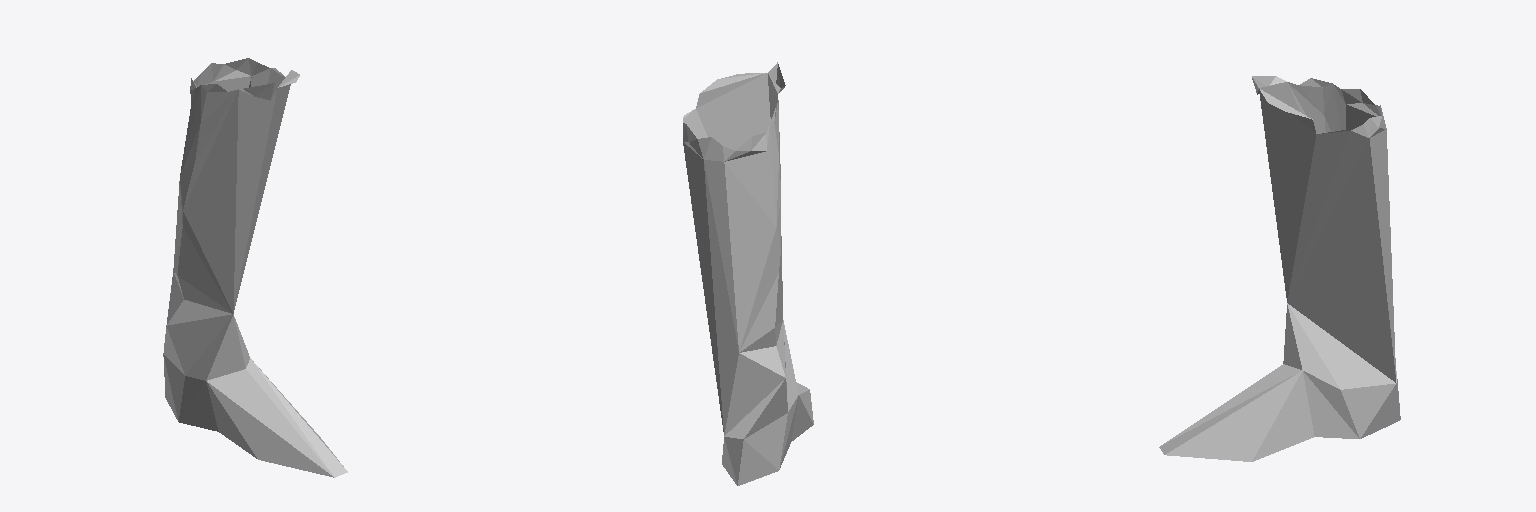
Rendered from pierna1.obj.
The picture shows the model from 3 angles: view 1: azimuth 30°, elevation 25°; view 2: azimuth 150°, elevation 25°; view 3: azimuth 270°, elevation 25°; orthographic projection.
Visible parts, largest first — view 1: polySurface118 uploads_files_[number redacted]_Humano_01Business_01_30K:Hu; view 2: polySurface118 uploads_files_[number redacted]_Humano_01Business_01_30K:Hu; view 3: polySurface118 uploads_files_[number redacted]_Humano_01Business_01_30K:Hu.
Boxes of the visible parts, x1,y1,x2,y2 form: polySurface118 uploads_files_[number redacted]_Humano_01Business_01_30K:Hu: [163, 58, 347, 477]; polySurface118 uploads_files_[number redacted]_Humano_01Business_01_30K:Hu: [683, 62, 813, 485]; polySurface118 uploads_files_[number redacted]_Humano_01Business_01_30K:Hu: [1159, 76, 1400, 461].
Bounding box in the file's own units: 0.0787 × 0.2552 × 0.1532.